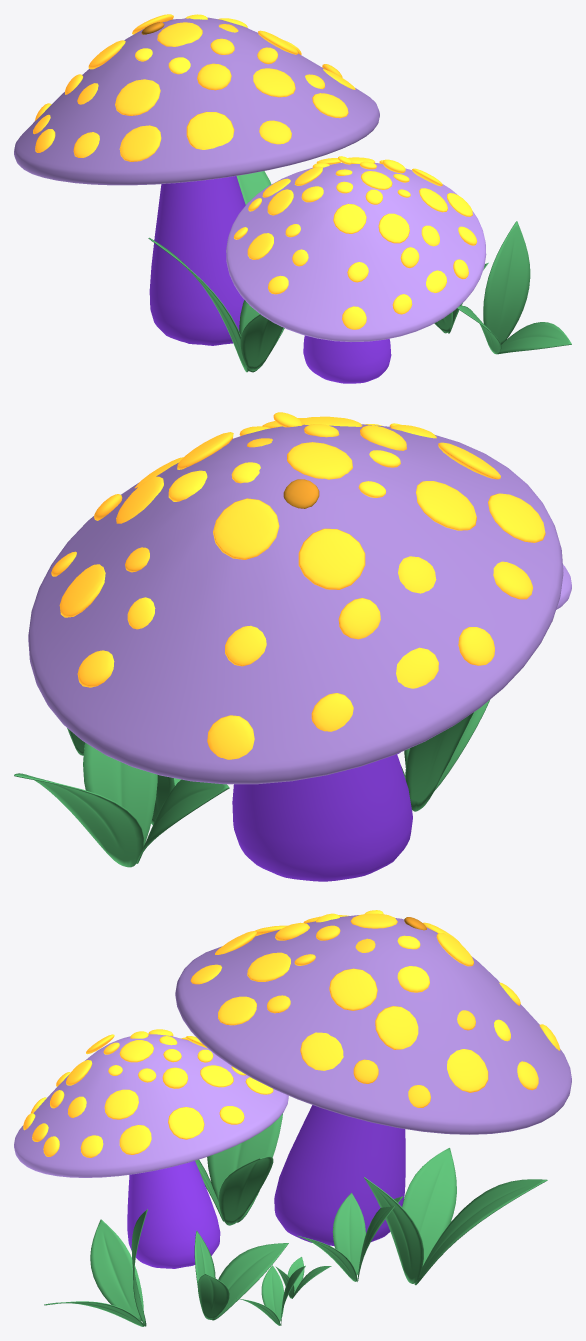
File: mushrooms.glb
3 views of the same model, one above another, from view 1: azimuth 30°, elevation 25°; view 2: azimuth 150°, elevation 25°; view 3: azimuth 270°, elevation 25° (orthographic). The views are drawn at different scales.
Parts seen in each view (by area): view 1: Circle.001, Circle.003, Circle, Plane.003, Circle.002, Plane.002, Cube.011, Cube.035, Cube.010, Cube.001, Cube, Cube.050 (+8 smaller); view 2: Circle.001, Circle, Plane.007, Plane.002, Cube.027, Cube.014, Cube.035, Cube.010, Cube, Cube.008, Cube.013, Cube.004 (+14 smaller); view 3: Circle.001, Circle.003, Circle, Plane.007, Circle.002, Plane.002, Plane.003, Plane.004, Plane.001, Cube.025, Cube.034, Cube.013 (+13 smaller).
Boxes of the visible parts, box(x1,y1,x2,y2) form: Circle.001: box(14, 17, 379, 185); Circle.003: box(226, 162, 486, 341); Circle: box(149, 176, 245, 345); Plane.003: box(457, 221, 571, 354); Circle.002: box(303, 335, 391, 383); Plane.002: box(148, 237, 284, 372); Cube.011: box(186, 111, 234, 149); Cube.035: box(115, 79, 160, 115); Cube.010: box(119, 125, 161, 161); Cube.001: box(253, 68, 295, 97); Cube: box(157, 22, 202, 46); Cube.050: box(333, 203, 366, 233); Circle.001: box(28, 424, 563, 784); Circle: box(232, 754, 412, 881); Plane.007: box(14, 742, 229, 867); Plane.002: box(401, 700, 489, 811); Cube.027: box(298, 528, 365, 589); Cube.014: box(213, 498, 279, 559); Cube.035: box(416, 481, 476, 530); Cube.010: box(488, 493, 545, 542); Cube: box(287, 442, 352, 479); Cube.008: box(207, 715, 254, 759); Cube.013: box(59, 564, 105, 617); Cube.004: box(338, 598, 380, 639); Circle.001: box(175, 915, 571, 1134); Circle.003: box(14, 1034, 288, 1177); Circle: box(274, 1105, 405, 1246); Plane.007: box(364, 1148, 547, 1285); Circle.002: box(127, 1161, 220, 1268); Plane.002: box(195, 1113, 282, 1225); Plane.003: box(44, 1209, 147, 1326); Plane.004: box(194, 1231, 288, 1320); Plane.001: box(297, 1193, 403, 1281); Cube.025: box(329, 968, 377, 1010); Cube.034: box(375, 1006, 418, 1049); Cube.013: box(447, 1049, 488, 1092).
Bounding box in the file's own units: 4.6 × 3.45 × 5.62.
